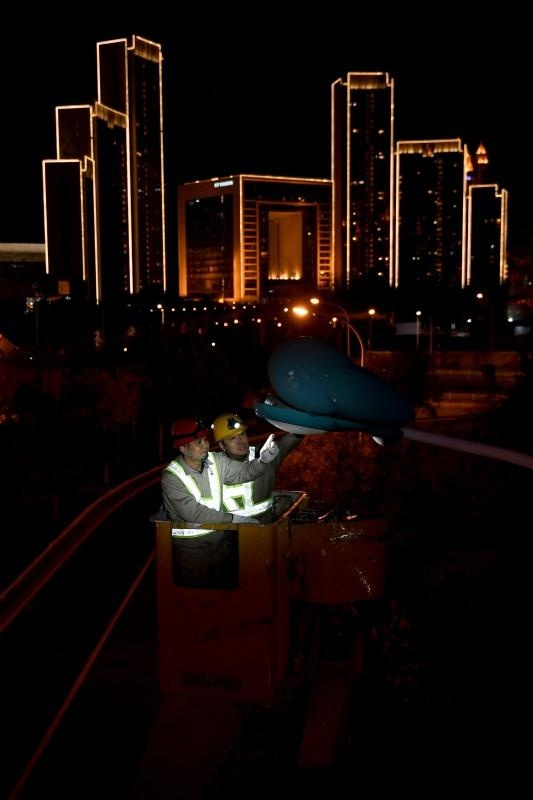red: (166, 414, 213, 464)
yellow: (208, 410, 251, 459)
